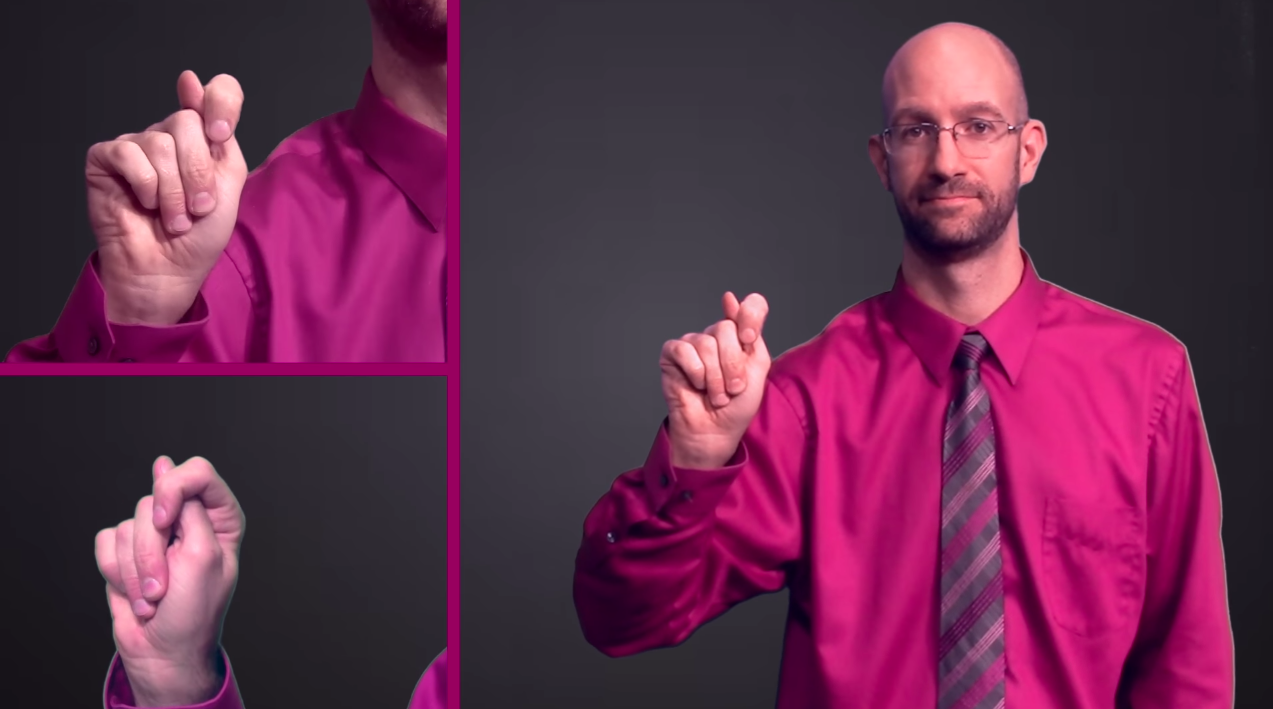t: (71, 57, 287, 315), (77, 440, 264, 699), (643, 276, 787, 474)
